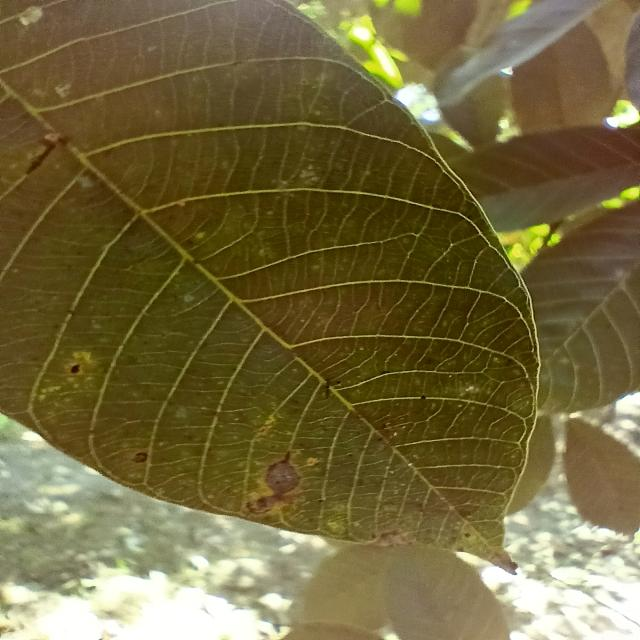Colletotrichum: (132, 451, 148, 463), (70, 364, 80, 374)
Corynespora: (22, 142, 58, 175)
Leaf-Blight: (266, 463, 300, 492)
